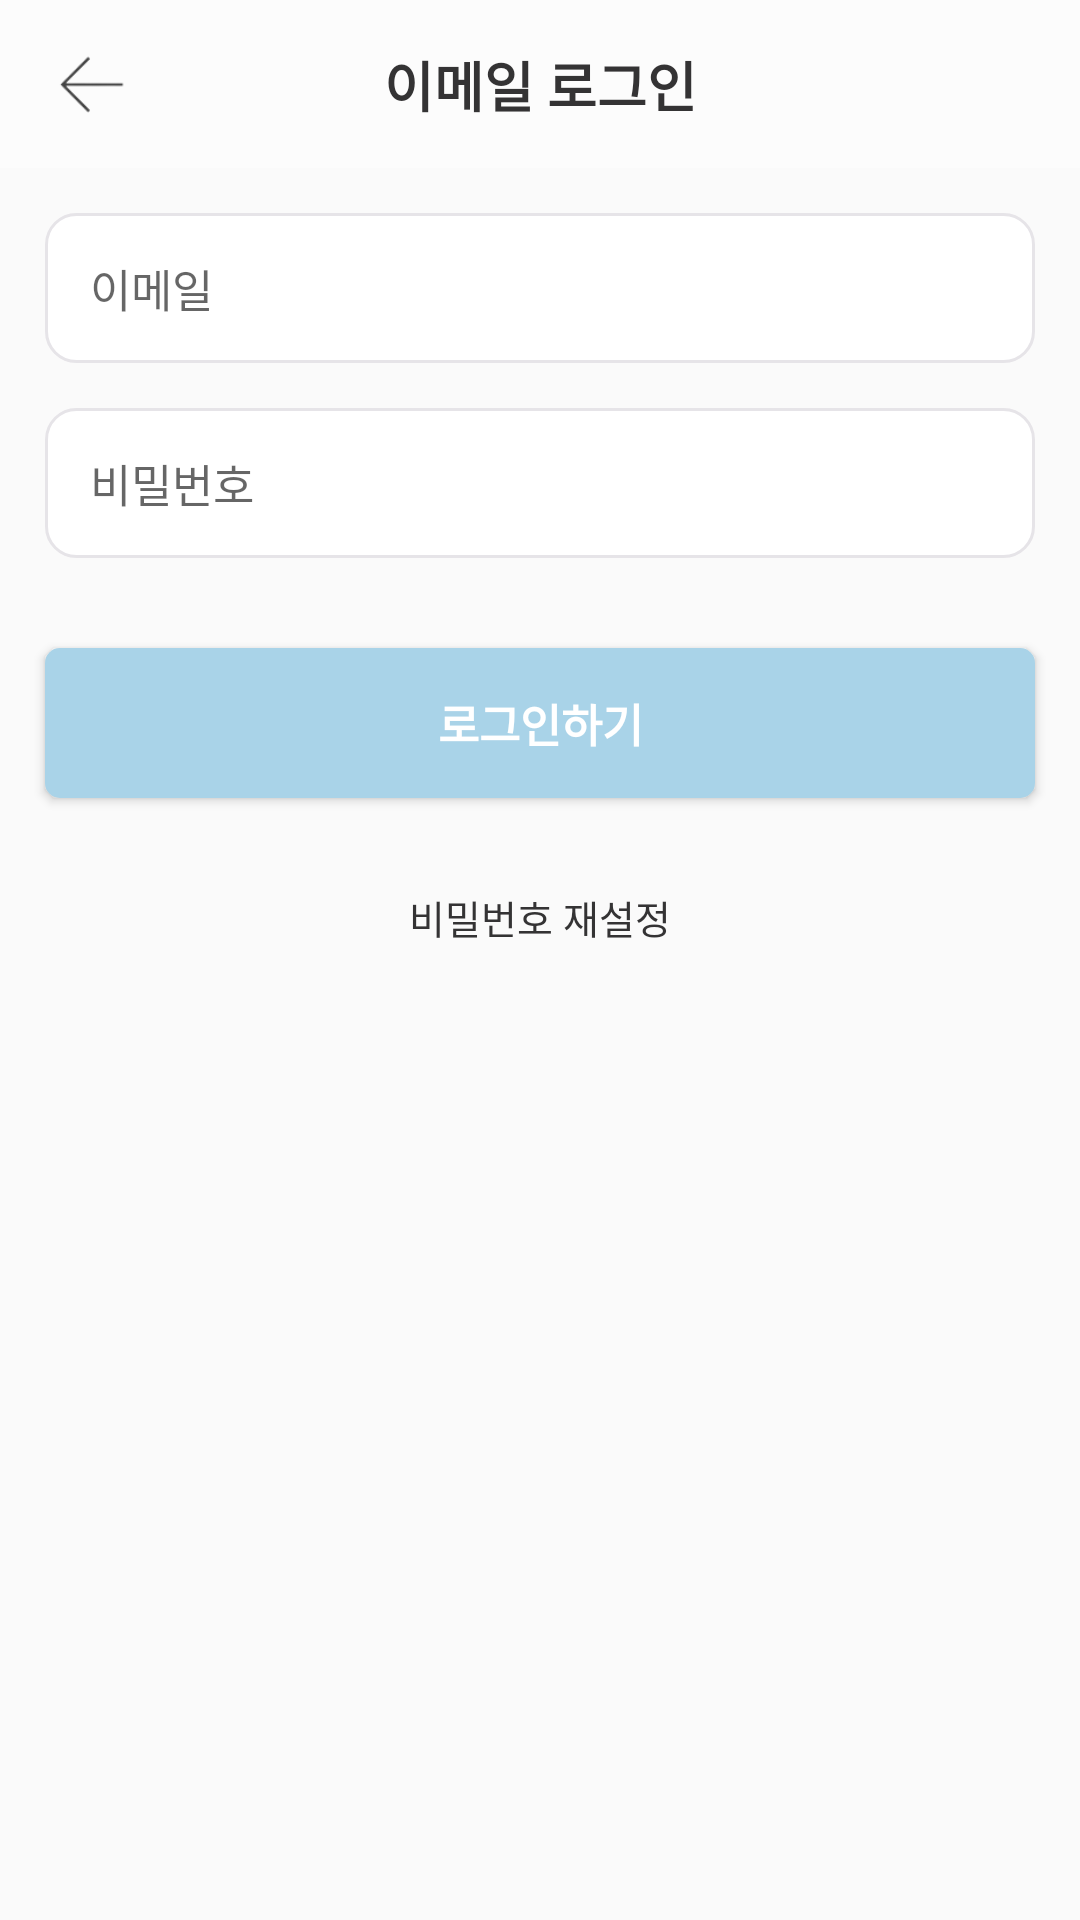

Where to tap for icons on this 1080×1920 app screen, as [x,y]:
back arrow: [92,84]
